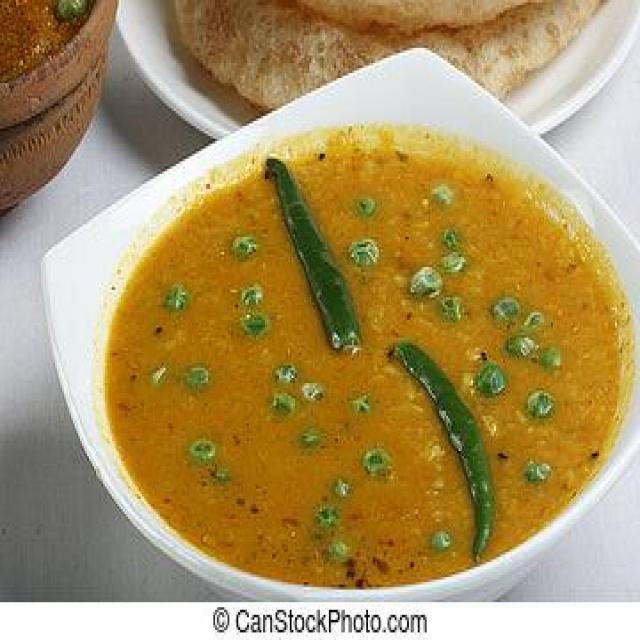dal: (112, 89, 602, 580)
